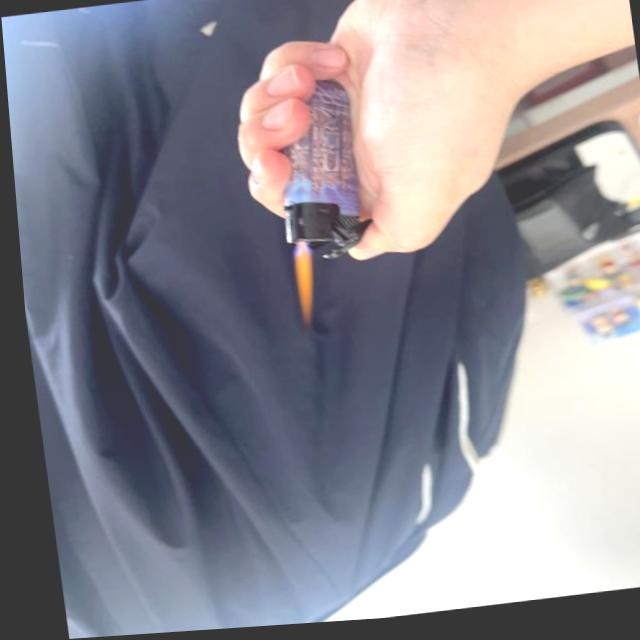helmet: (283, 248, 318, 329)
